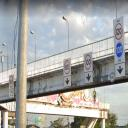speed_limit_100: (84, 53, 92, 71)
speed_limit_120: (115, 22, 123, 41)
speed_limit_80: (64, 58, 70, 75), (8, 75, 14, 88)
